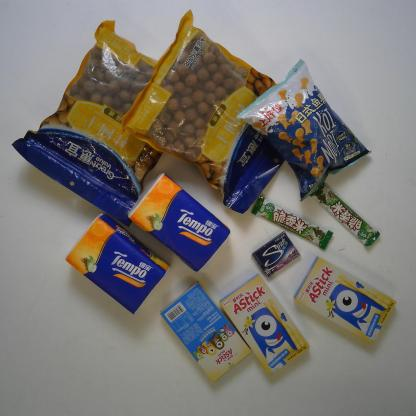Chocolate: (308, 177, 380, 247), (251, 195, 333, 250)
Dessert: (160, 282, 250, 383), (294, 257, 398, 344), (220, 274, 309, 375)
Dried Food: (10, 19, 214, 227), (121, 9, 314, 213)
Gum: (252, 230, 300, 276)
Puffed Food: (236, 58, 371, 200)
Tissue: (65, 213, 170, 314), (127, 173, 231, 272)
